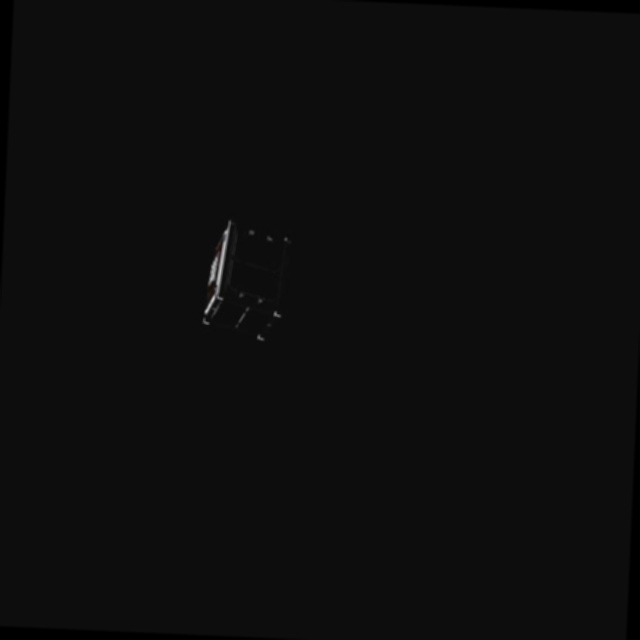satellite: (195, 207, 308, 349)
